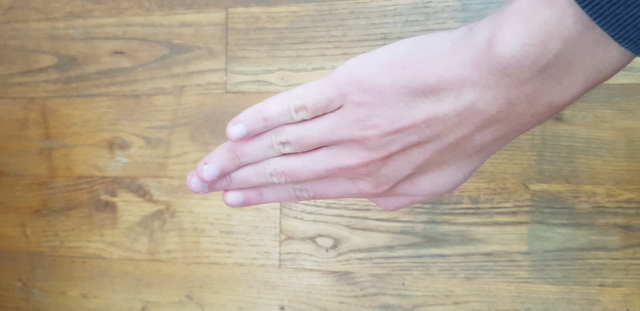Paper: (140, 25, 557, 226)
